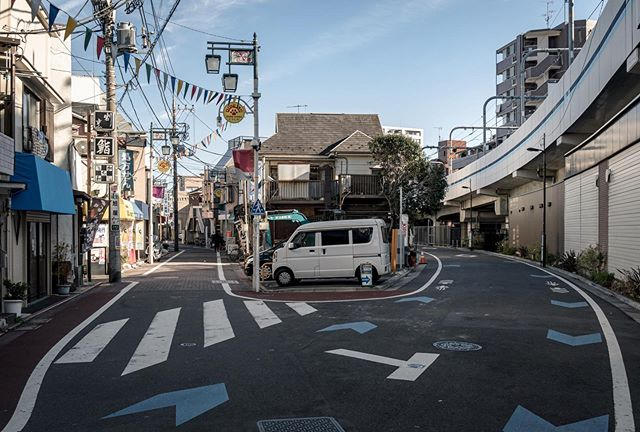building: (450, 23, 640, 286), (1, 1, 84, 322), (249, 112, 408, 220), (79, 92, 148, 272), (490, 14, 593, 127)
sky: (170, 1, 481, 136)
street: (243, 247, 640, 430), (29, 245, 241, 432)
tree: (372, 134, 442, 228)
van: (269, 213, 392, 288)
